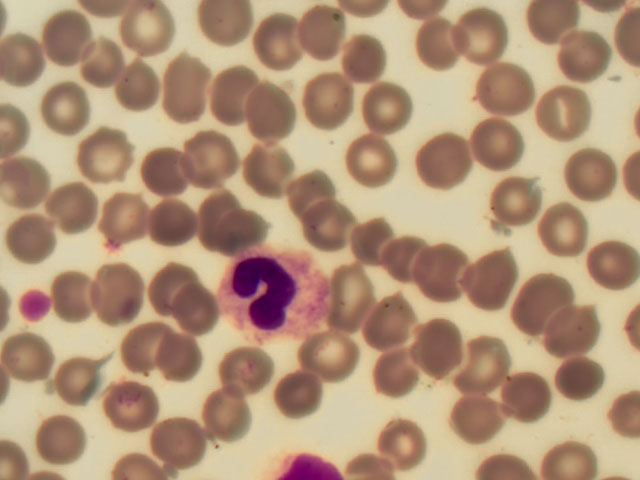Platelets: (22, 286, 49, 323)
RBC: (511, 272, 570, 337), (92, 262, 148, 324), (240, 80, 296, 139), (164, 51, 208, 125), (368, 293, 422, 352), (154, 409, 213, 463), (462, 254, 517, 310), (449, 8, 506, 62), (535, 82, 592, 136), (559, 27, 616, 81), (413, 315, 462, 377), (412, 245, 468, 297), (301, 74, 354, 128), (451, 387, 503, 441), (333, 260, 373, 330), (78, 129, 132, 179), (564, 147, 618, 197), (296, 6, 350, 56), (586, 239, 640, 289), (537, 207, 591, 257), (491, 174, 545, 224), (379, 418, 433, 468), (253, 15, 307, 65), (121, 1, 175, 50), (372, 342, 418, 399), (168, 279, 219, 329), (149, 194, 195, 248), (33, 417, 86, 463), (103, 190, 147, 245), (43, 13, 90, 64), (460, 334, 502, 391), (182, 135, 235, 180), (301, 333, 354, 377), (210, 65, 250, 123), (244, 145, 294, 191), (504, 367, 545, 422), (51, 360, 100, 406), (151, 260, 192, 314), (3, 158, 50, 205), (53, 272, 97, 322), (525, 1, 578, 42), (216, 350, 270, 390), (554, 356, 603, 400), (382, 236, 431, 280), (141, 147, 190, 191), (285, 172, 334, 216), (304, 204, 353, 248), (361, 83, 410, 127), (340, 34, 389, 78), (417, 22, 466, 66), (477, 64, 526, 108), (471, 120, 520, 164), (418, 140, 467, 184), (344, 136, 393, 180), (48, 187, 97, 230), (158, 330, 198, 382), (207, 386, 247, 438), (109, 385, 149, 437), (201, 1, 253, 41), (81, 40, 123, 89), (542, 442, 596, 480), (544, 309, 596, 348), (1, 32, 43, 80), (5, 221, 52, 263), (276, 370, 315, 419), (43, 86, 86, 128), (110, 452, 172, 480), (8, 337, 47, 380), (346, 450, 400, 480), (479, 450, 529, 480), (1, 104, 26, 152), (618, 15, 640, 67), (1, 440, 27, 480), (612, 394, 635, 437), (610, 392, 633, 435)
WBC: (229, 246, 323, 337)
